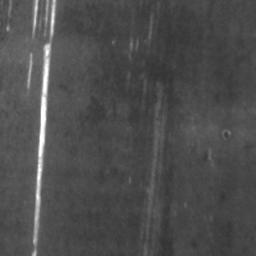Bright scratch: (29, 0, 56, 256), (33, 0, 40, 37), (27, 54, 33, 90)
